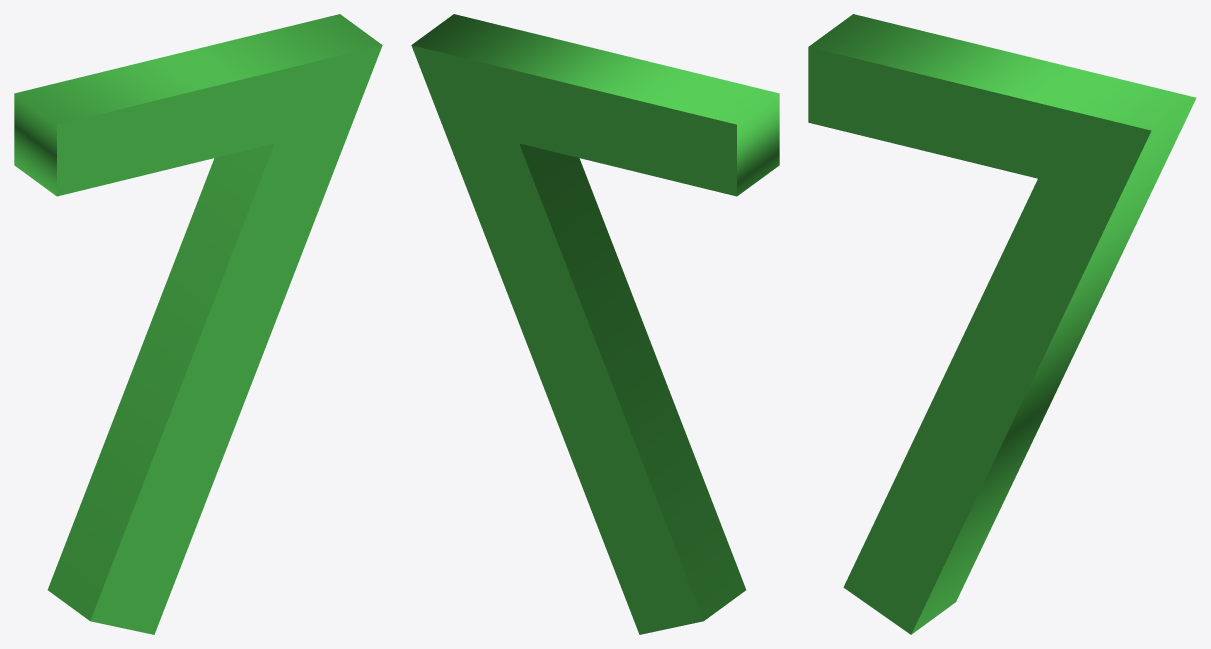
File: Briseveine.glb
3 views of the same model, side by side, from view 1: azimuth 30°, elevation 25°; view 2: azimuth 150°, elevation 25°; view 3: azimuth 330°, elevation 25° (orthographic). The views are drawn at different scales.
Visible parts, largest first — view 1: 7; view 2: 7; view 3: 7.
Part boxes in pixels (bbox=[...]): 7: bbox=[14, 14, 382, 634]; 7: bbox=[411, 14, 779, 634]; 7: bbox=[808, 14, 1196, 634].
Size of the model in its own units: 0.441 by 0.691 by 0.1.
